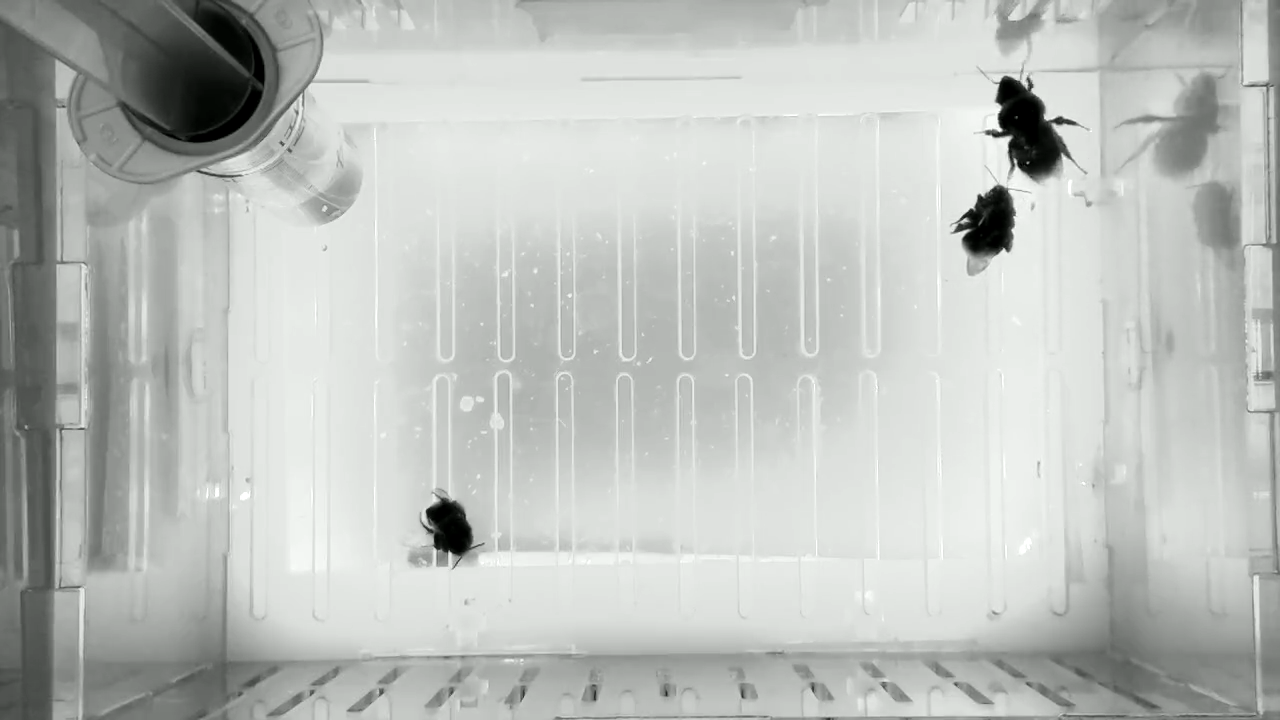bee_alive: (972, 56, 1097, 191)
bee_dead: (945, 163, 1036, 278), (413, 484, 486, 572)
feeder: (213, 86, 369, 230)
